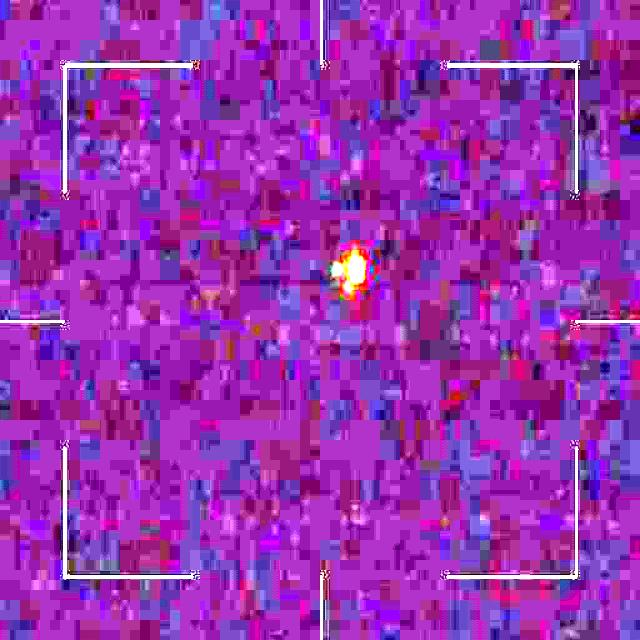bird: (332, 250, 370, 294)
